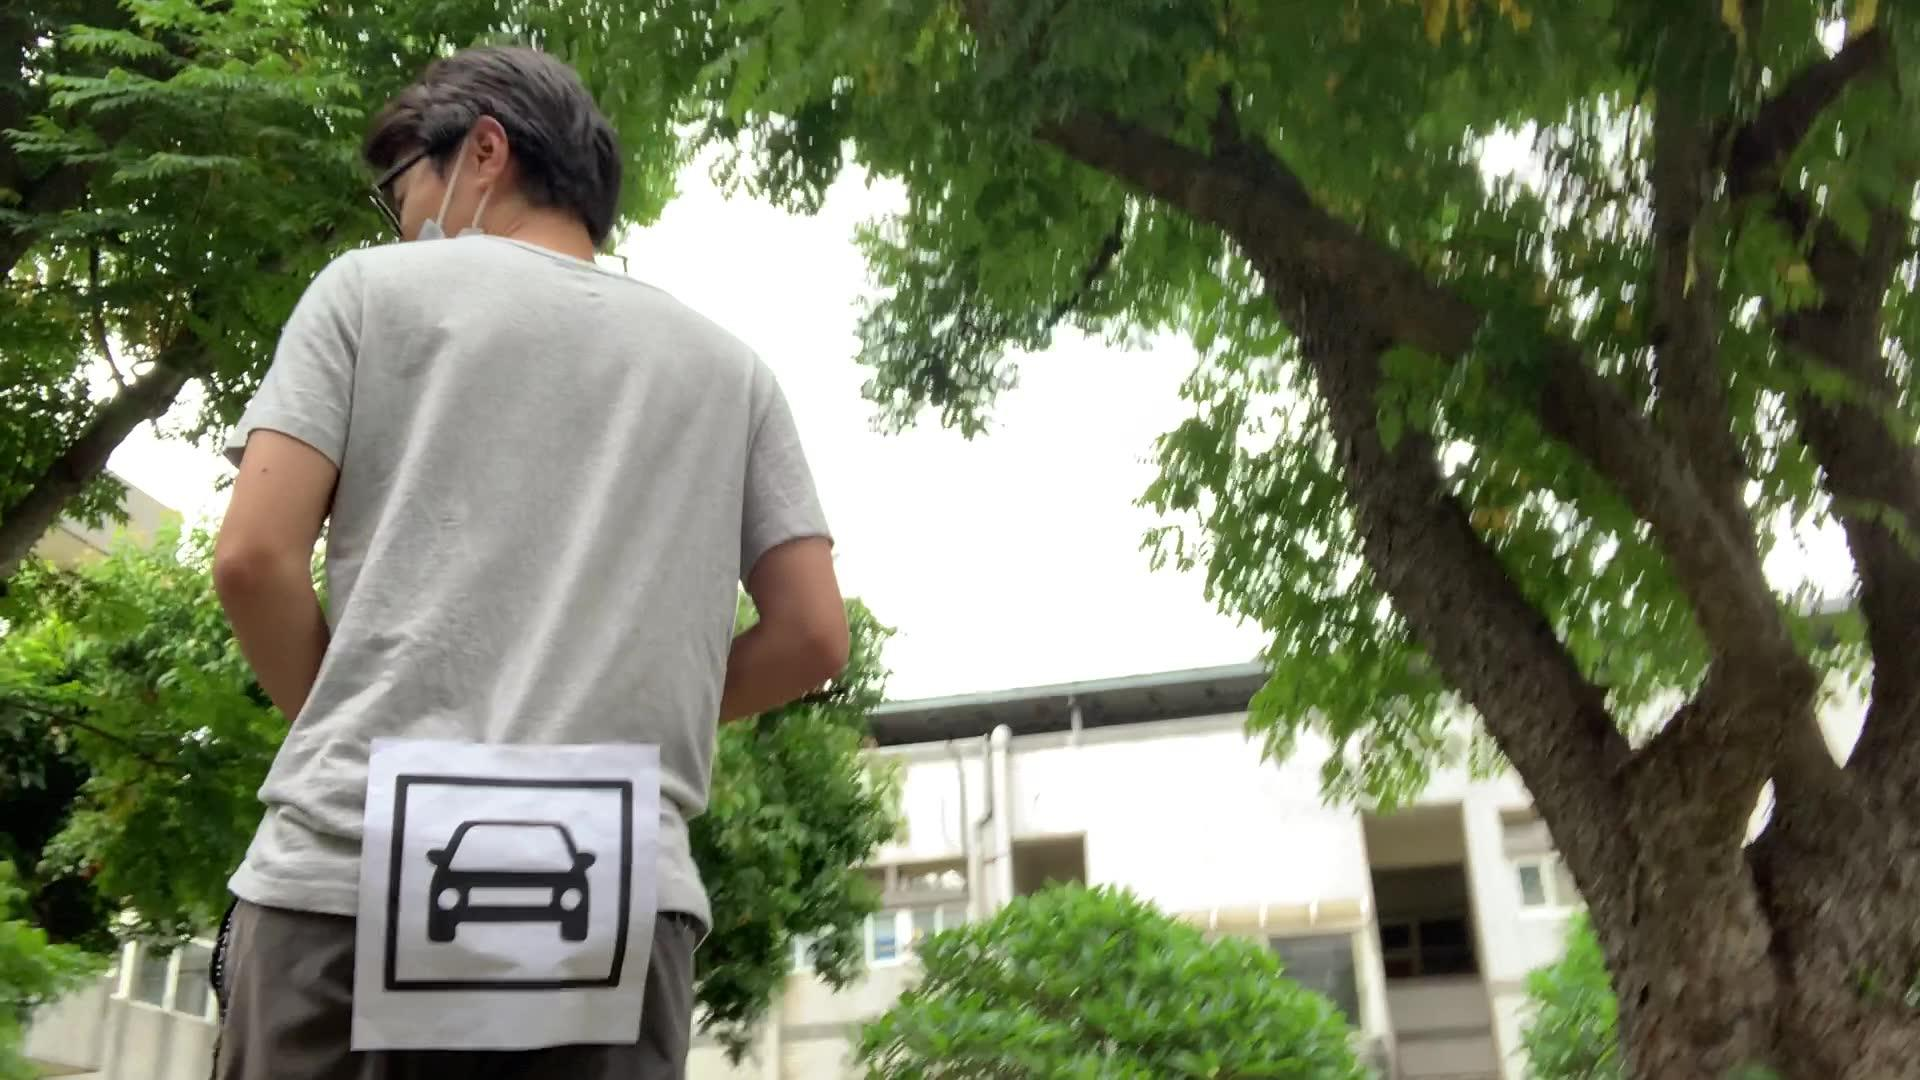car_img: (382, 773, 634, 990)
